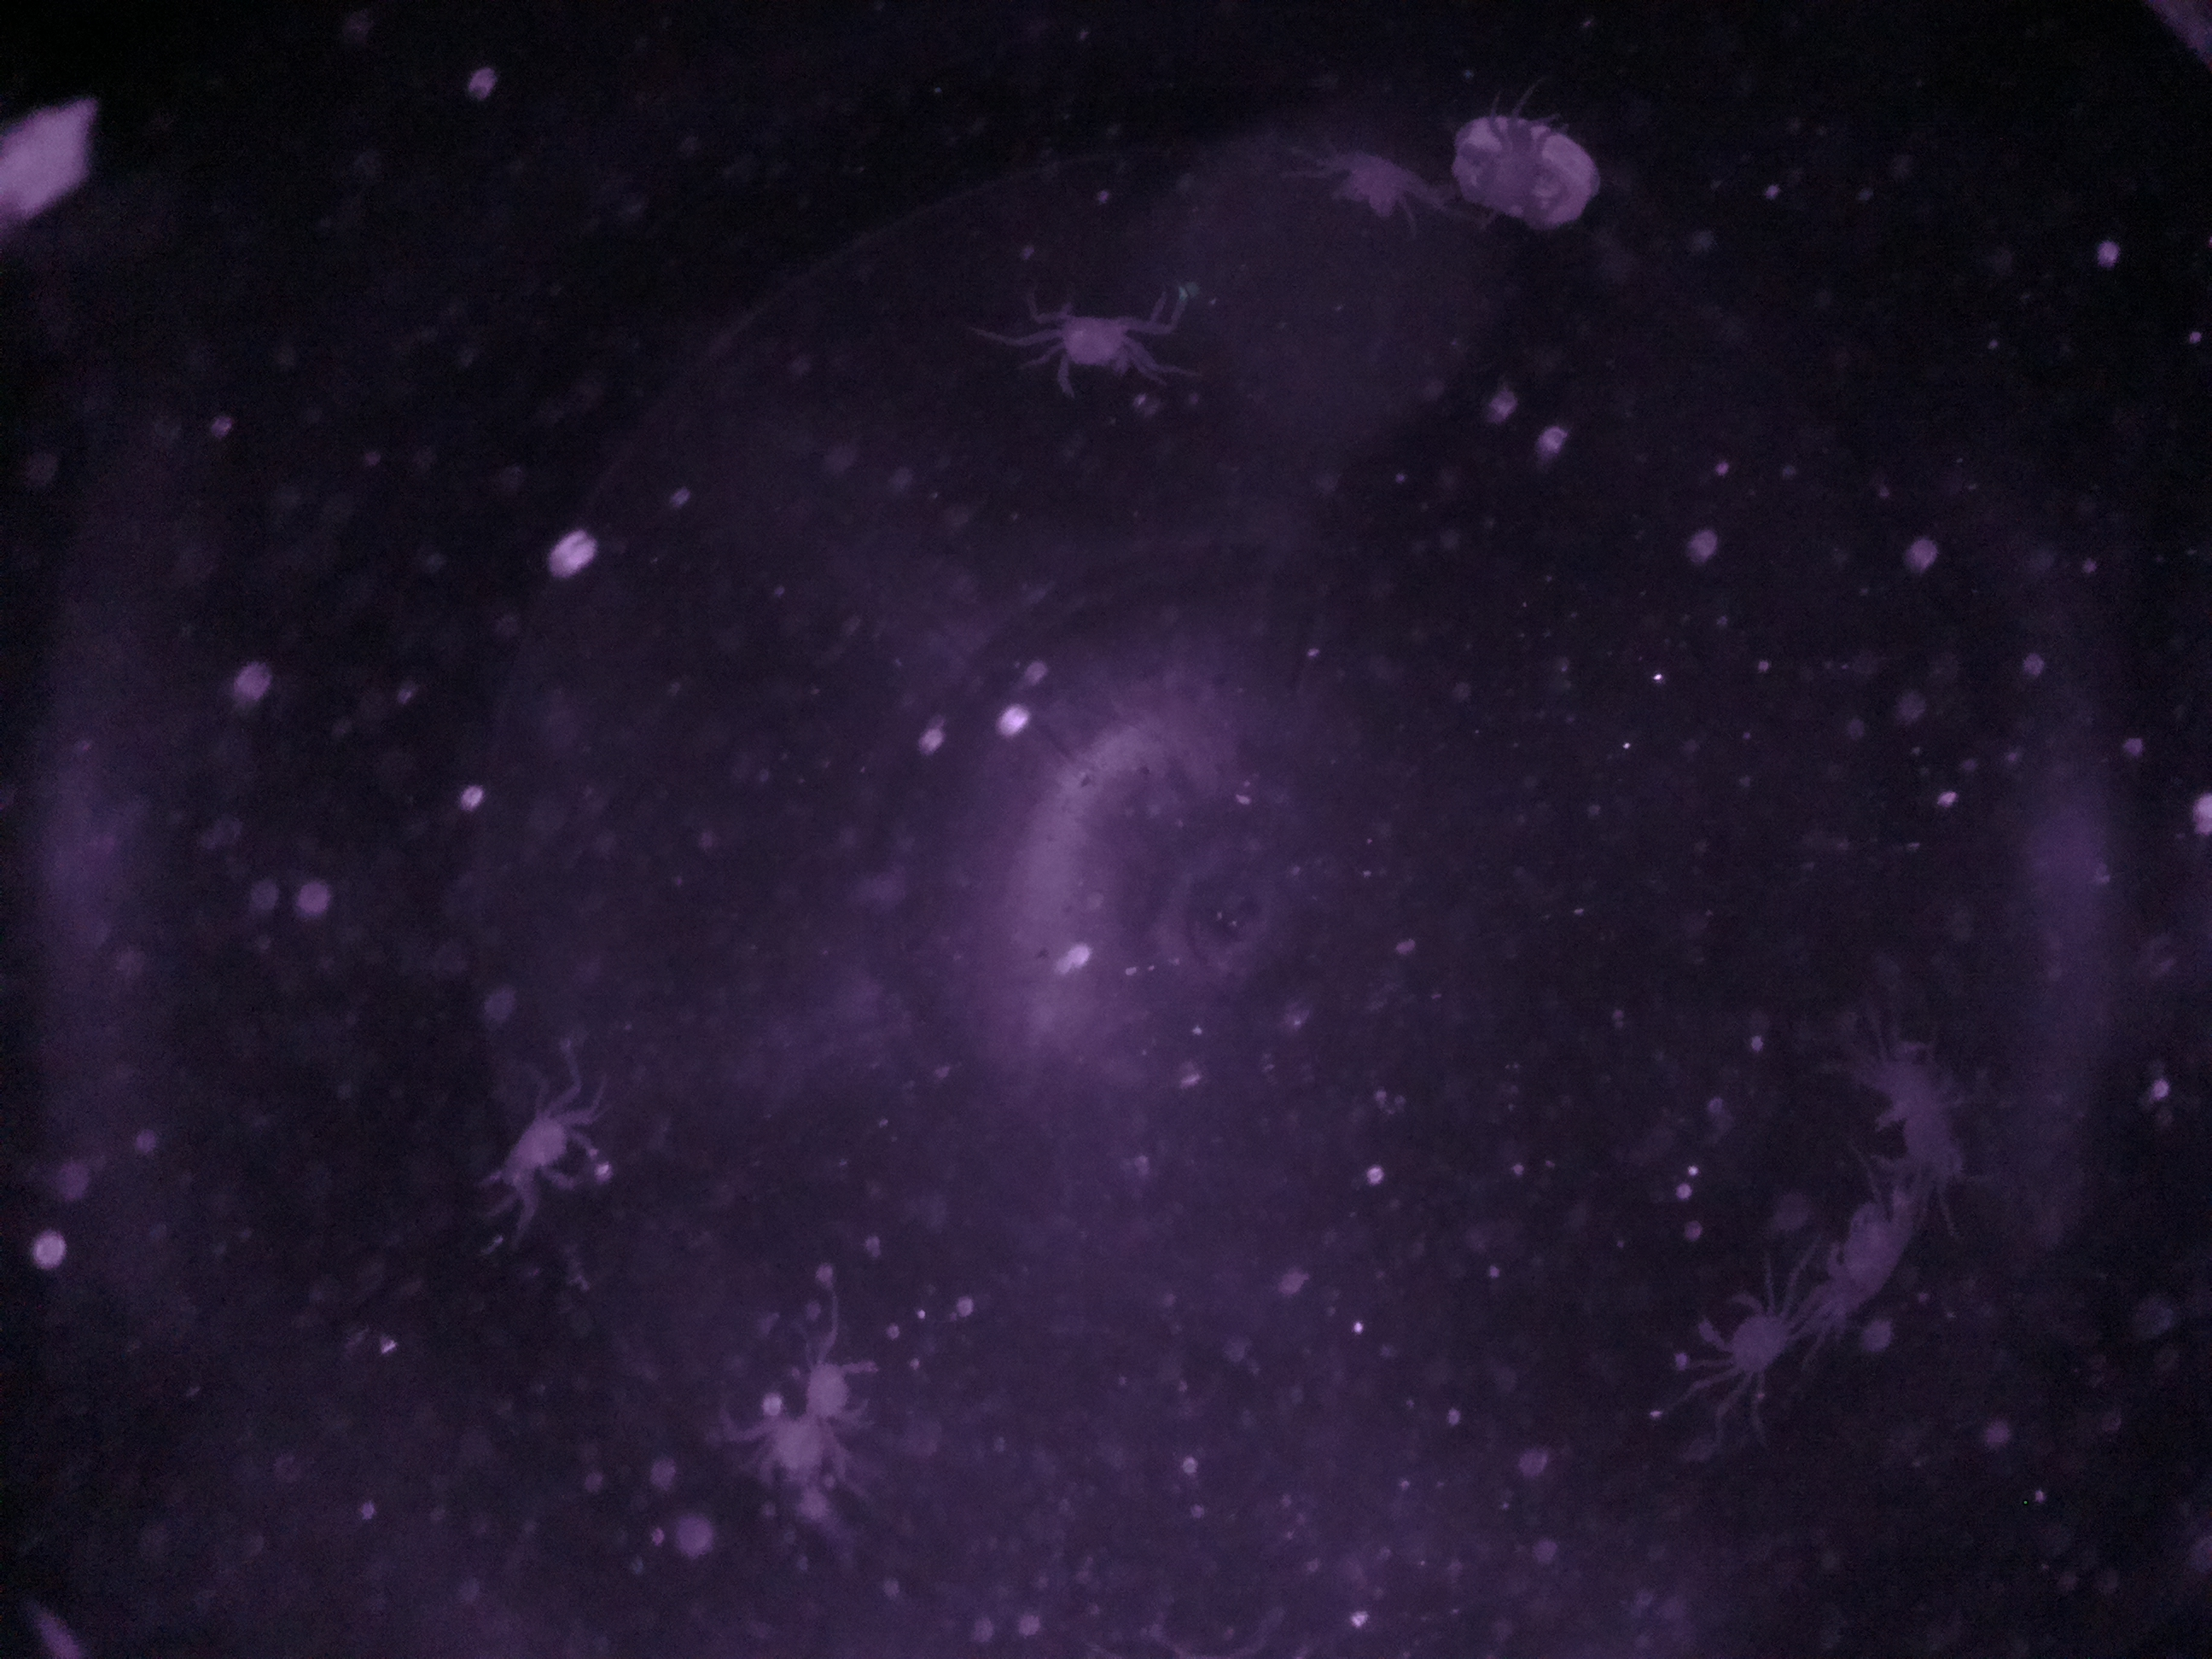Crab: (1677, 1277, 1815, 1392), (1035, 295, 1148, 408), (1810, 1199, 1921, 1312), (500, 1093, 615, 1199), (1322, 136, 1425, 232), (782, 1349, 887, 1431)
